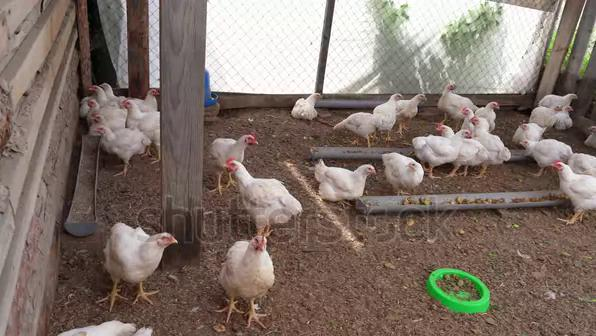Pollos: (226, 158, 301, 225), (103, 220, 179, 282), (220, 237, 275, 299), (315, 156, 373, 196), (550, 160, 596, 210), (95, 126, 152, 156), (383, 152, 429, 187), (416, 124, 454, 163), (332, 111, 386, 136), (456, 127, 488, 168), (210, 132, 255, 161), (121, 96, 158, 128), (85, 94, 118, 122), (520, 135, 555, 161), (438, 81, 477, 104), (291, 92, 324, 117), (531, 103, 562, 127), (471, 113, 498, 139), (381, 91, 403, 120), (403, 90, 426, 116), (539, 92, 579, 103), (560, 104, 577, 129), (514, 120, 538, 135), (477, 101, 500, 113), (146, 86, 158, 106)
